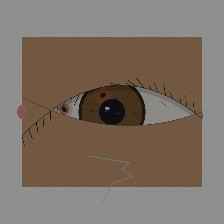foreign_body_visible: (50, 98, 79, 121)
